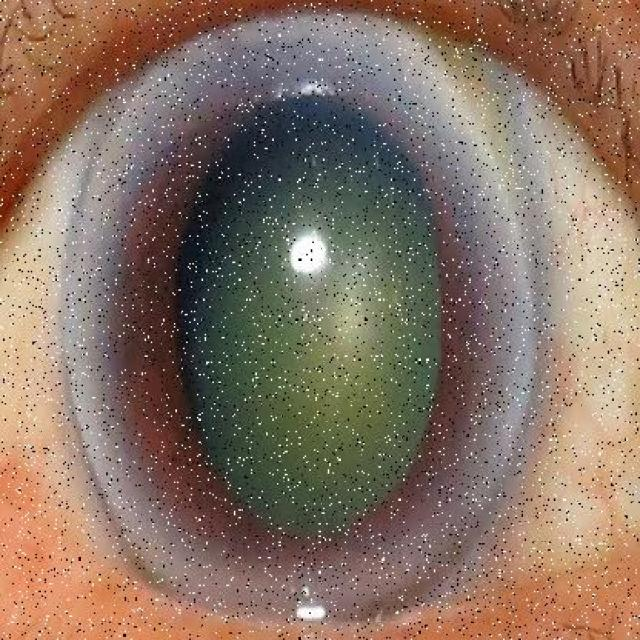Cataract: (69, 18, 541, 629)
